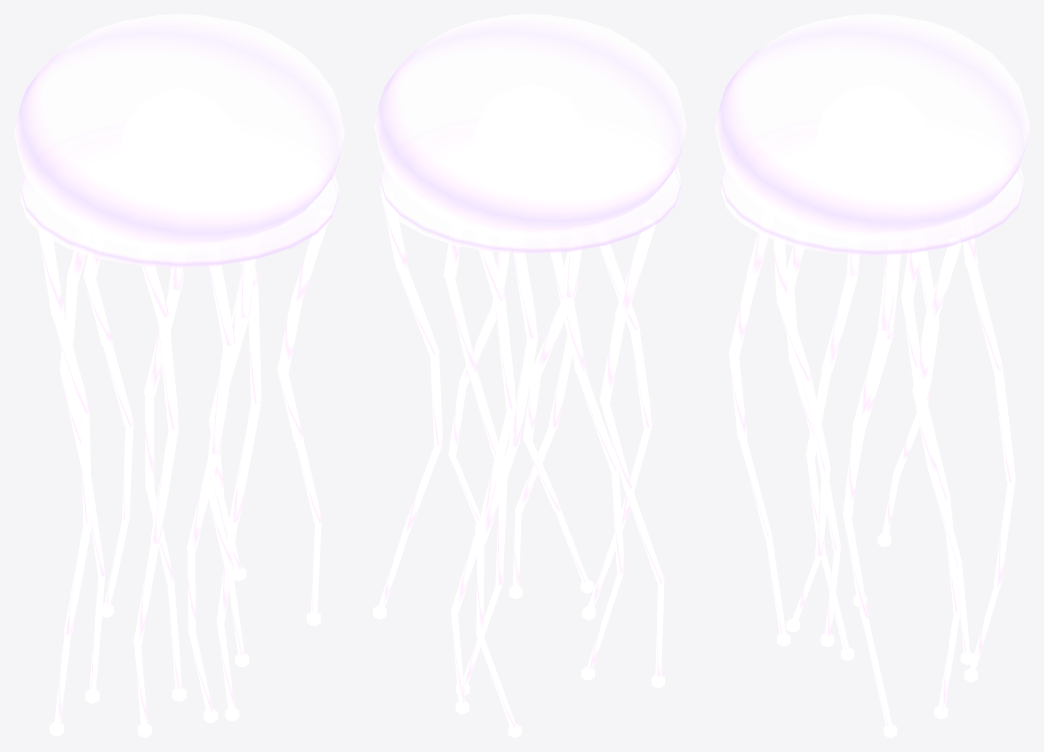
Rendered from drifter.glb.
3 renders of one model, left to right at view 1: azimuth 30°, elevation 25°; view 2: azimuth 150°, elevation 25°; view 3: azimuth 270°, elevation 25°, orthographic. The views are drawn at different scales.
Parts seen in each view (by area): view 1: Bell, Tentacles; view 2: Bell, Tentacles; view 3: Bell, Tentacles.
Part boxes in pixels (box(x1,y1,x2,y2)): Bell: box(14, 14, 344, 267); Tentacles: box(38, 170, 330, 737); Bell: box(374, 14, 686, 253); Tentacles: box(373, 155, 664, 737); Bell: box(715, 14, 1029, 255); Tentacles: box(728, 173, 1016, 737).
Size of the model in its own units: 1 by 2.36 by 1.
